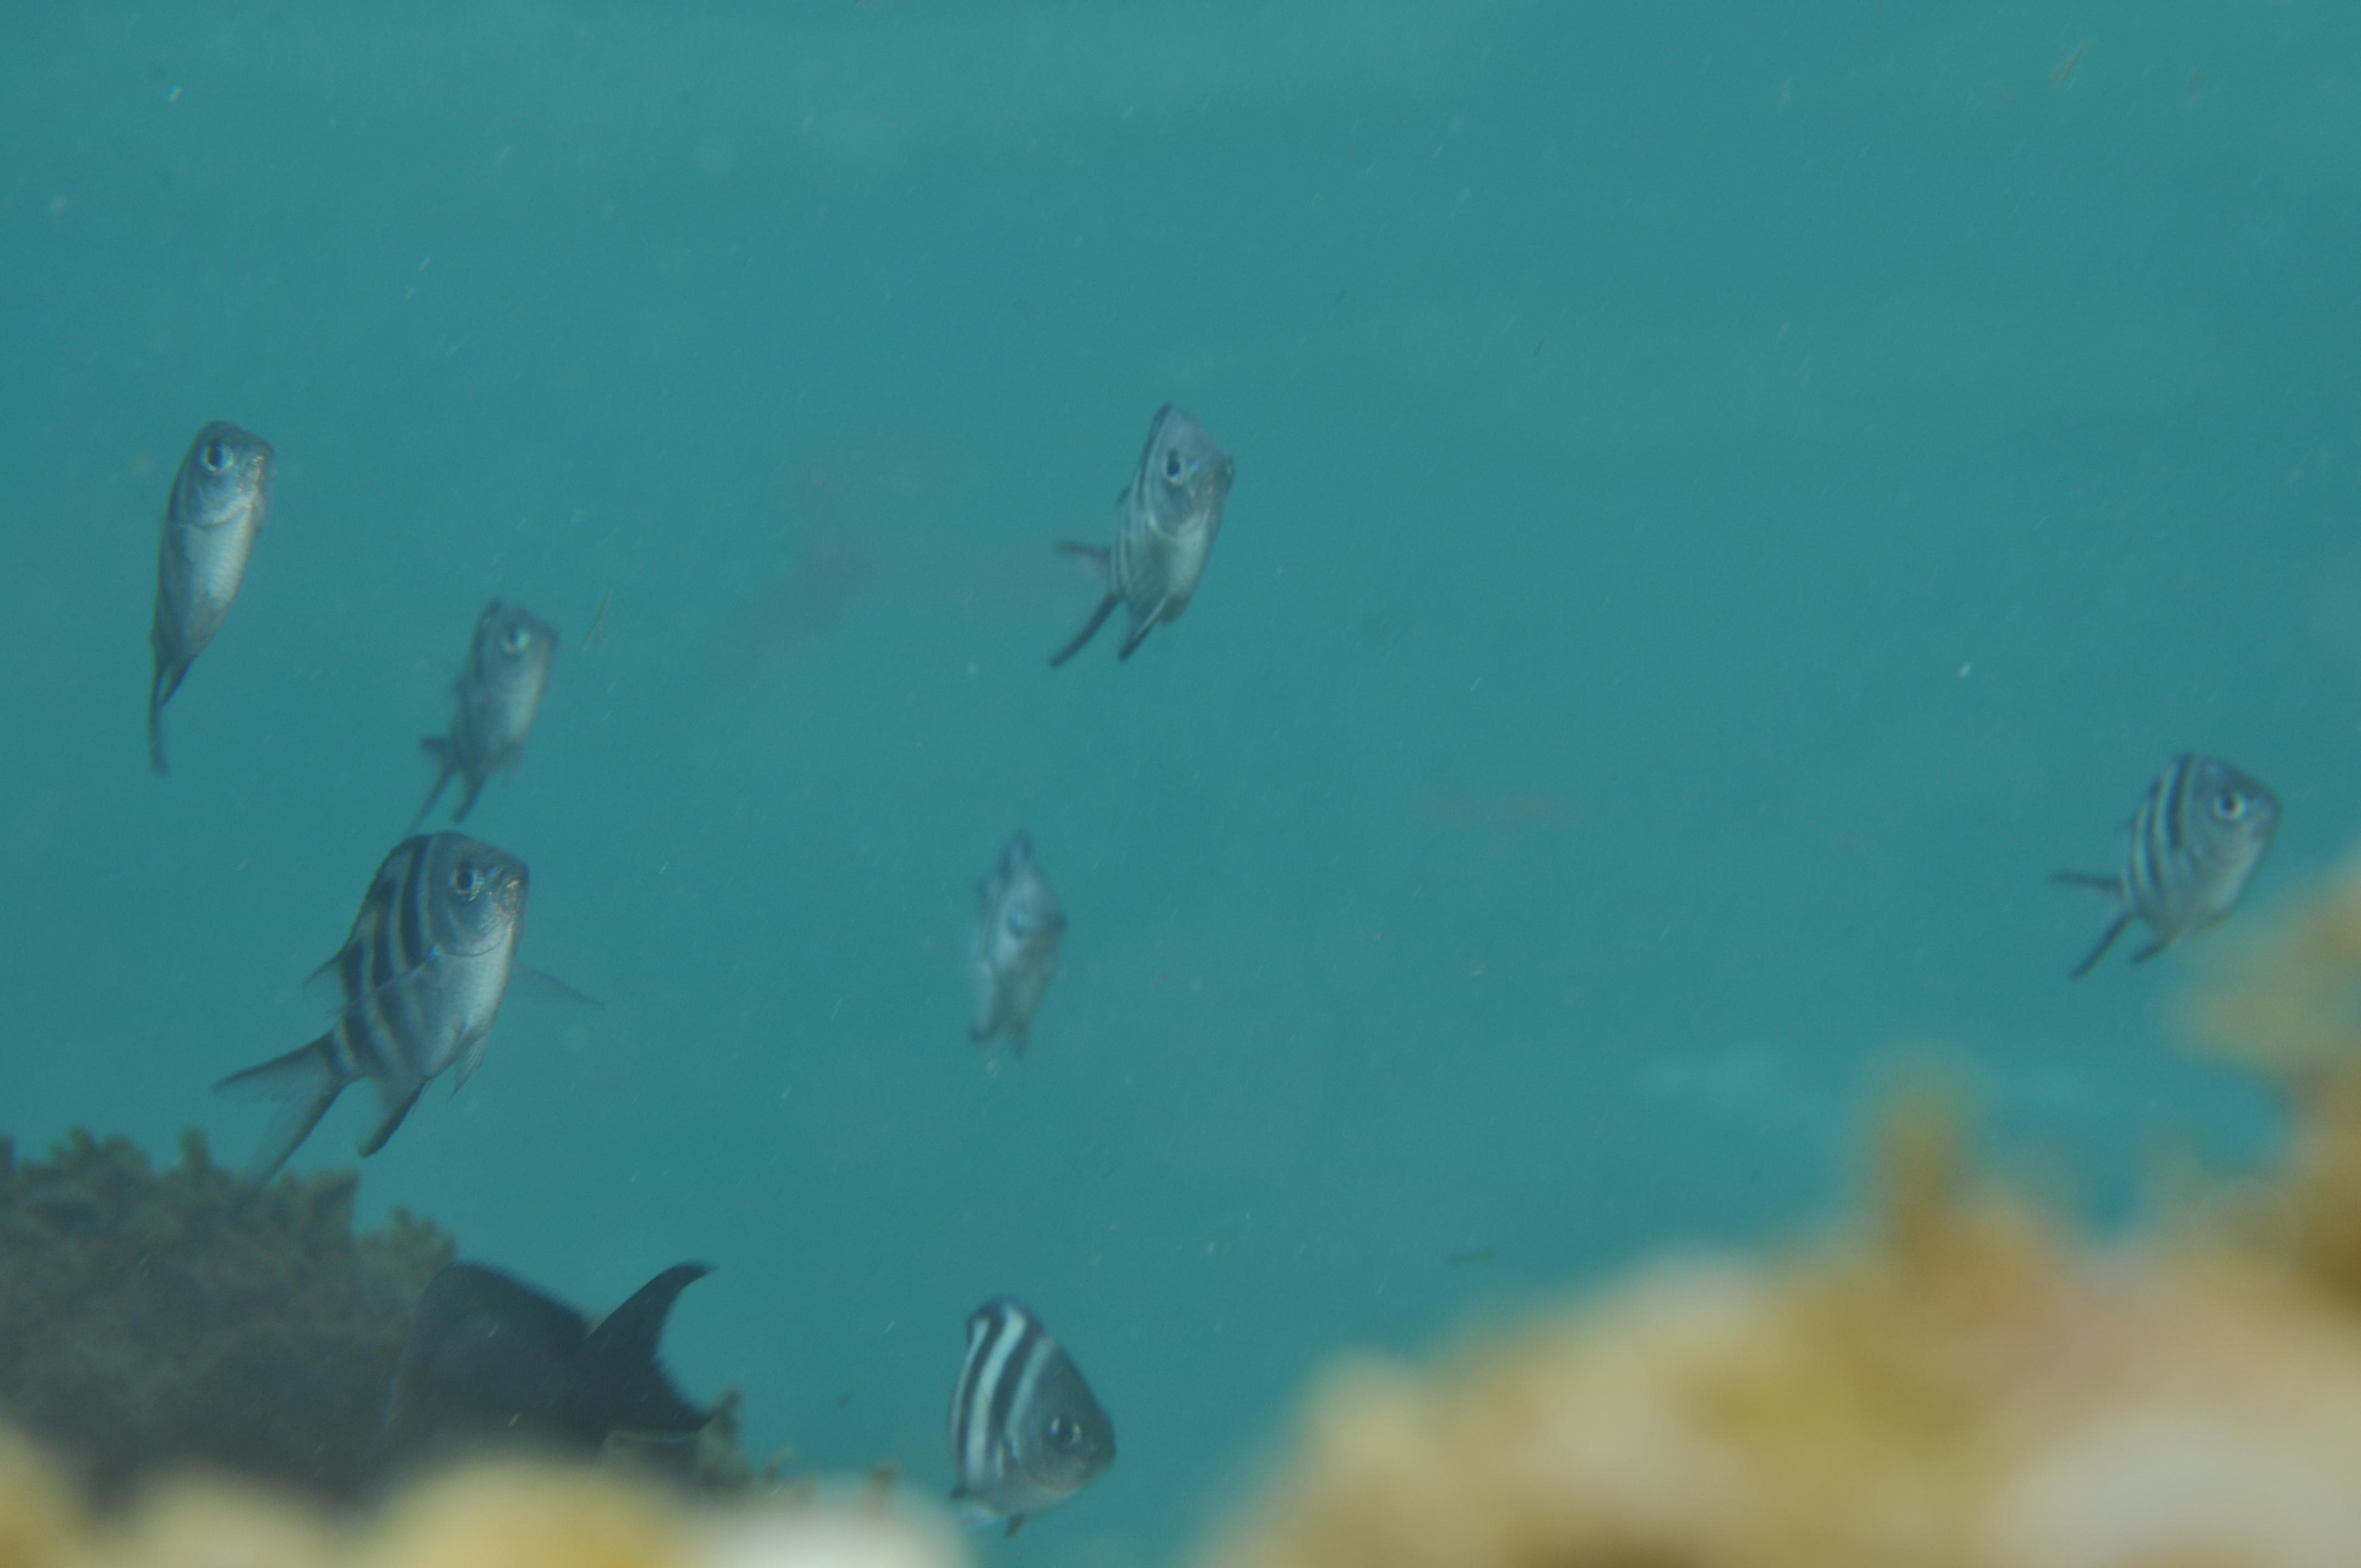Fish: (201, 819, 606, 1197), (2016, 721, 2314, 1008), (1047, 387, 1278, 695), (124, 413, 282, 789), (940, 1295, 1160, 1550), (406, 567, 586, 833), (945, 840, 1089, 1078)
